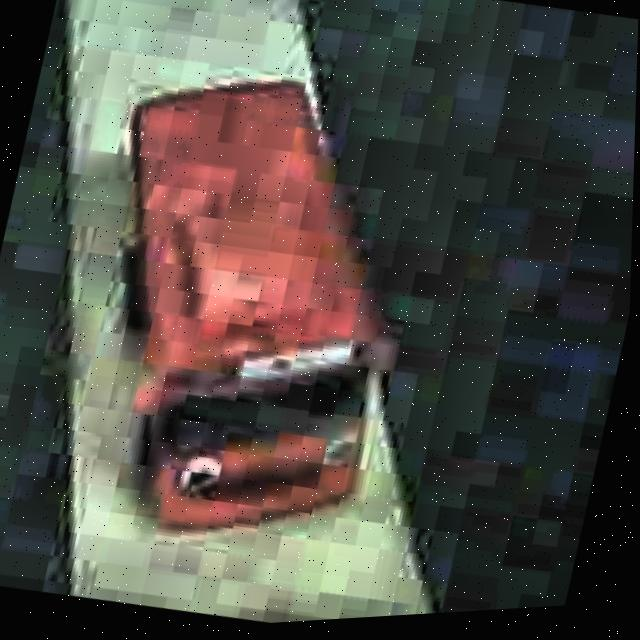bus: (37, 39, 447, 579)
